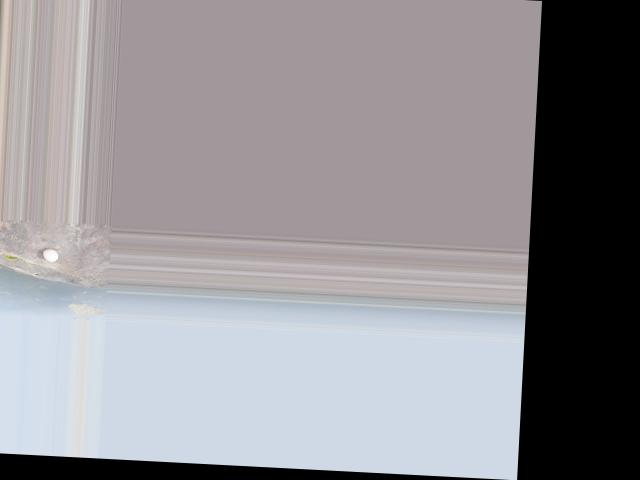egg: (43, 248, 59, 262)
